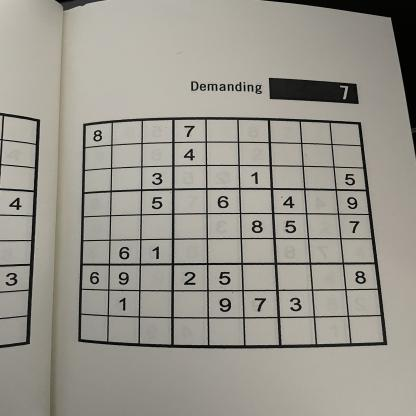sudoku: (73, 114, 393, 351)
